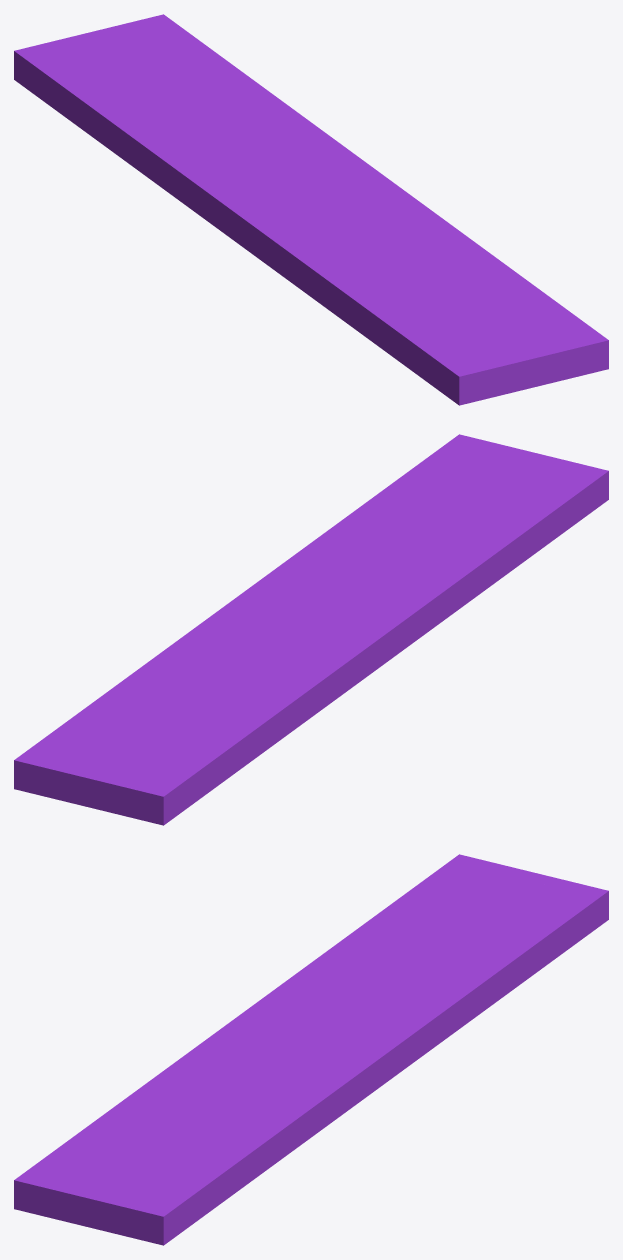
Rendered from StairsStep_142_chunks.fbx.
The picture shows the model from 3 angles, top to bottom: view 1: azimuth 30°, elevation 25°; view 2: azimuth 150°, elevation 25°; view 3: azimuth 330°, elevation 25°; orthographic projection.
Parts seen in each view (by area): view 1: StairsStep_142_2, StairsStep_142_0, StairsStep_142_3, StairsStep_142_1; view 2: StairsStep_142_2, StairsStep_142_0, StairsStep_142_3, StairsStep_142_1; view 3: StairsStep_142_2, StairsStep_142_3, StairsStep_142_0, StairsStep_142_1.
Boxes of the visible parts, x1=… form: StairsStep_142_2: x1=244, y1=197, x2=608, y2=405; StairsStep_142_0: x1=14, y1=27, x2=295, y2=253; StairsStep_142_3: x1=111, y1=14, x2=383, y2=197; StairsStep_142_1: x1=352, y1=176, x2=434, y2=213; StairsStep_142_2: x1=286, y1=434, x2=608, y2=651; StairsStep_142_0: x1=39, y1=620, x2=400, y2=825; StairsStep_142_3: x1=14, y1=599, x2=323, y2=794; StairsStep_142_1: x1=235, y1=561, x2=295, y2=599; StairsStep_142_2: x1=14, y1=1023, x2=336, y2=1245; StairsStep_142_3: x1=299, y1=878, x2=608, y2=1052; StairsStep_142_0: x1=229, y1=854, x2=555, y2=1030; StairsStep_142_1: x1=317, y1=1051, x2=428, y2=1132.
Size of the model in its own units: 157 by 28.98 by 810.
